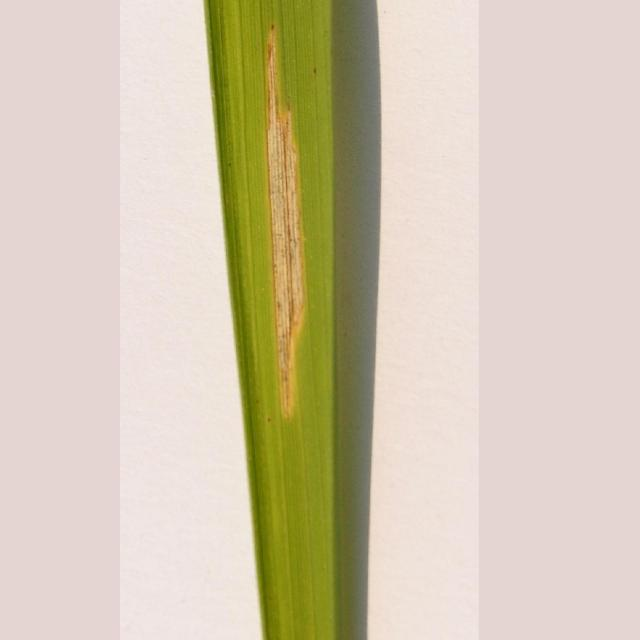leaf blight: (243, 25, 338, 417)
